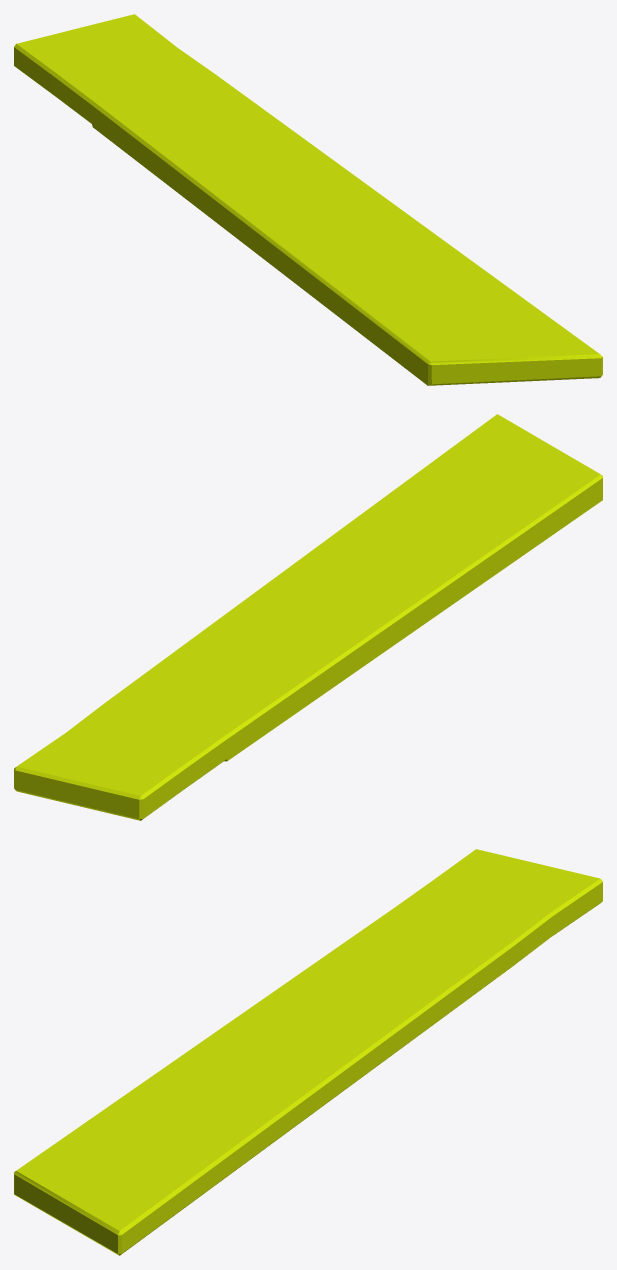
The model's file is Inlane_B.fbx.
3 views of the same model, one above another, from view 1: azimuth 30°, elevation 25°; view 2: azimuth 150°, elevation 25°; view 3: azimuth 330°, elevation 25° (orthographic). The views are drawn at different scales.
Visible parts, largest first — view 1: Inlane_B; view 2: Inlane_B; view 3: Inlane_B.
Boxes of the visible parts, x1=… form: Inlane_B: x1=14, y1=14, x2=602, y2=385; Inlane_B: x1=14, y1=414, x2=602, y2=820; Inlane_B: x1=14, y1=849, x2=602, y2=1255.
Bounding box in the file's own units: 1.74 × 0.2858 × 10.1.
